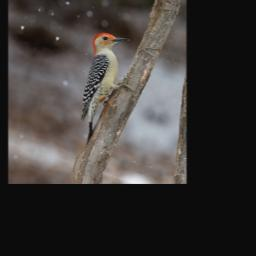Woodpecker: (65, 28, 149, 153)
